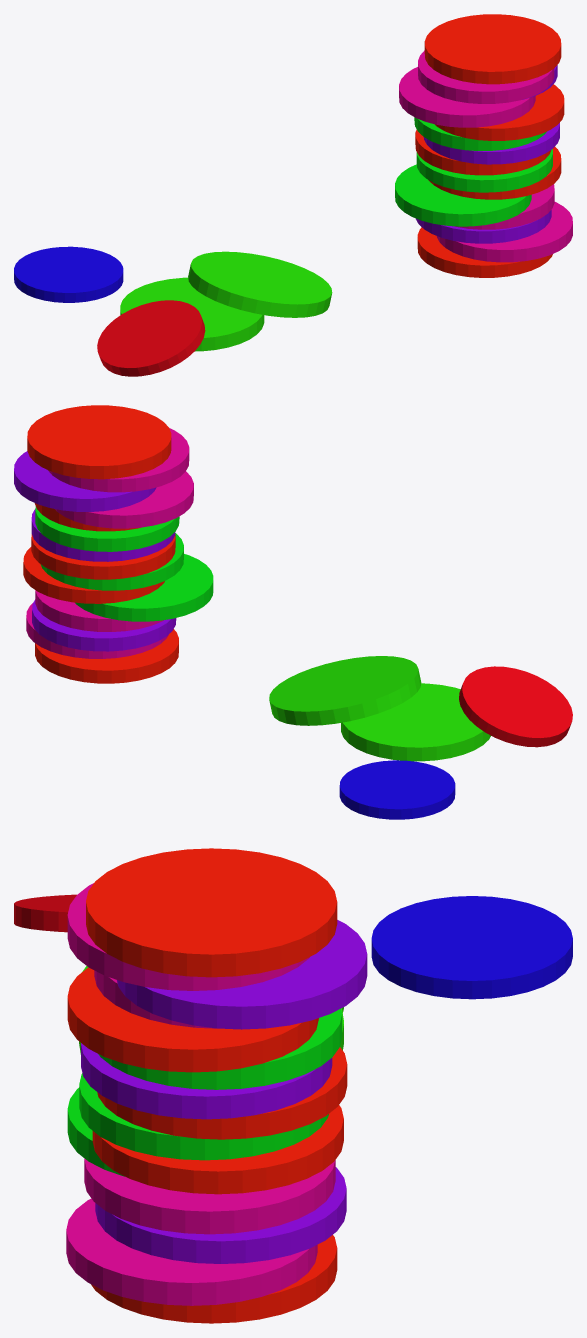
File: Chips 1.fbx
The picture shows the model from 3 angles, top to bottom: view 1: azimuth 30°, elevation 25°; view 2: azimuth 150°, elevation 25°; view 3: azimuth 270°, elevation 25°; orthographic projection. The views are drawn at different scales.
Parts seen in each view (by area): view 1: TowerChips, M_Yellow; view 2: TowerChips, M_Yellow; view 3: TowerChips, M_Yellow.
Part boxes in pixels (x1,y1,x2,y2): TowerChips: [395, 14, 572, 277]; M_Yellow: [14, 246, 332, 376]; TowerChips: [14, 405, 213, 683]; M_Yellow: [269, 656, 572, 819]; TowerChips: [66, 848, 367, 1323]; M_Yellow: [14, 894, 572, 1054].
Size of the model in its own units: 93.14 by 38.46 by 51.13.
